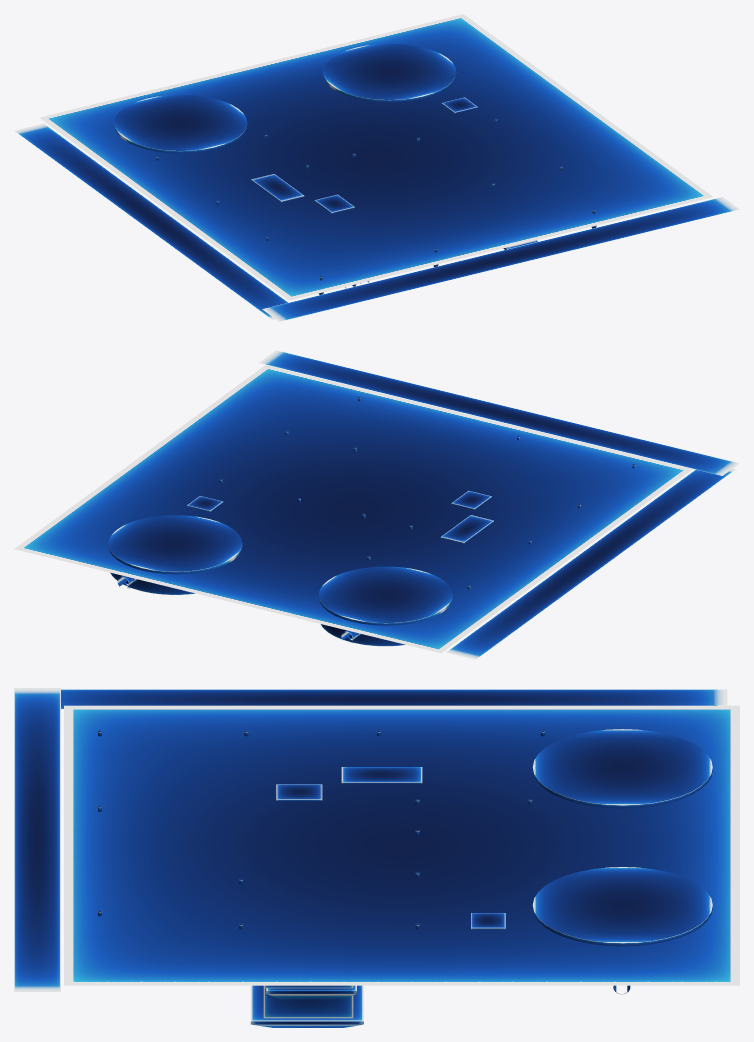
3 renders of one model, top to bottom at view 1: azimuth 30°, elevation 25°; view 2: azimuth 150°, elevation 25°; view 3: azimuth 270°, elevation 25°, orthographic. The views are drawn at different scales.
Parts seen in each view (by area): view 1: 阀门; view 2: 阀门; view 3: 阀门.
Boxes of the visible parts, x1,y1,x2,y2 form: 阀门: (14, 14, 739, 321); 阀门: (14, 350, 739, 659); 阀门: (14, 688, 739, 1027).
Size of the model in its own units: 249 by 40.39 by 251.
Materials: 1 (1 with a texture image).
